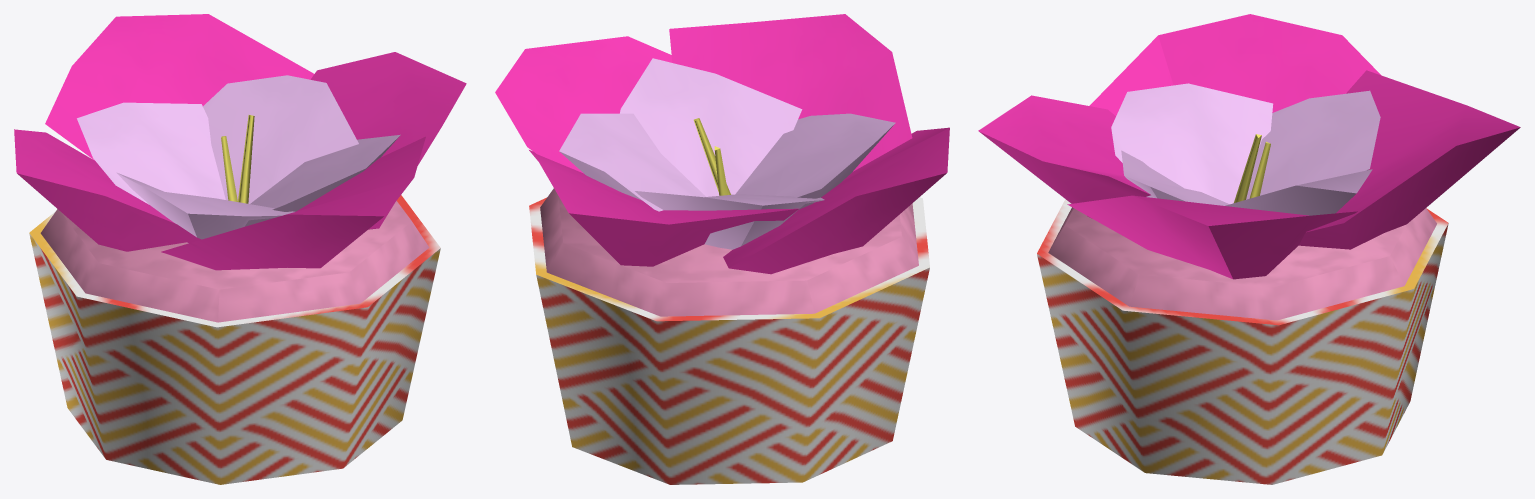
The model's file is Cupcake_B_1.FBX.
The picture shows the model from 3 angles, left to right: view 1: azimuth 30°, elevation 25°; view 2: azimuth 150°, elevation 25°; view 3: azimuth 270°, elevation 25°; orthographic projection. The views are drawn at different scales.
Visible parts, largest first — view 1: Cupcake_B; view 2: Cupcake_B; view 3: Cupcake_B.
Part boxes in pixels (left/top/right/bottom): Cupcake_B: left=14, top=14, right=466, bottom=484; Cupcake_B: left=495, top=14, right=949, bottom=484; Cupcake_B: left=978, top=14, right=1520, bottom=484.
Size of the model in its own units: 38.73 by 26.15 by 41.87.
